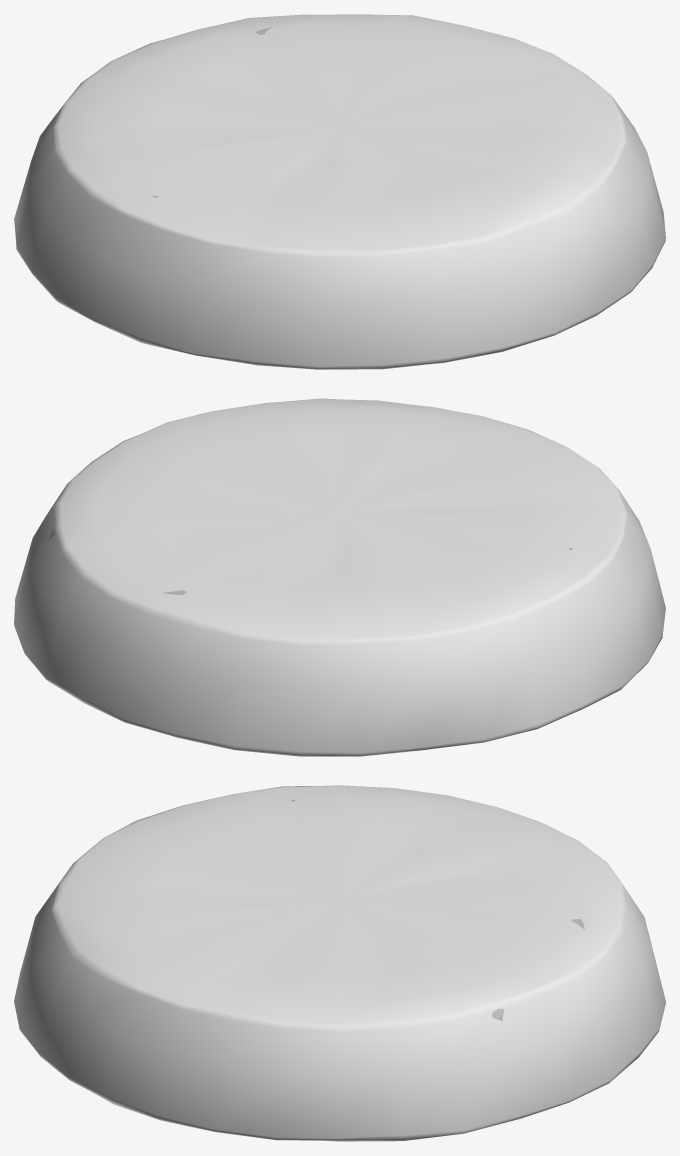
Rendered from light.fbx.
The picture shows the model from 3 angles, top to bottom: view 1: azimuth 30°, elevation 25°; view 2: azimuth 150°, elevation 25°; view 3: azimuth 270°, elevation 25°; orthographic projection.
Visible parts, largest first — view 1: Light; view 2: Light; view 3: Light.
Part boxes in pixels (left/top/right/bottom): Light: left=14, top=14, right=665, bottom=369; Light: left=14, top=398, right=665, bottom=756; Light: left=14, top=785, right=665, bottom=1141.
Size of the model in its own units: 1.84 by 0.3447 by 1.83.
2 materials, 1 textured.
